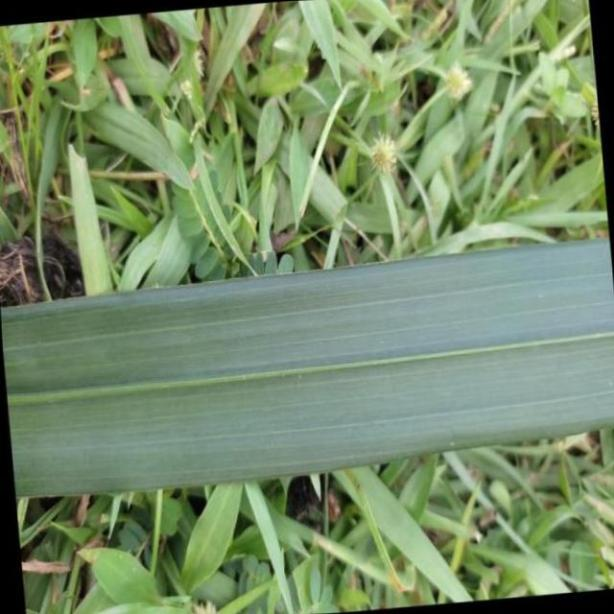Healthy: (0, 232, 614, 500)
